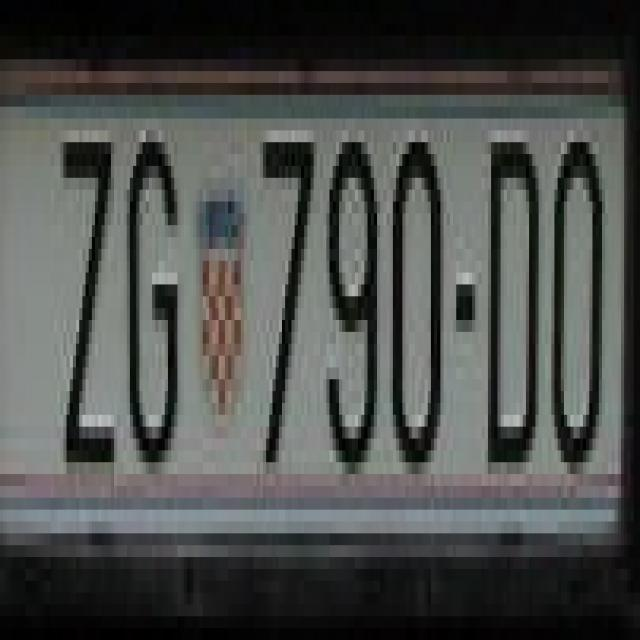0: (555, 107, 605, 486), (390, 119, 440, 474)
7: (260, 118, 310, 510)
9: (323, 119, 380, 462)
D: (484, 119, 538, 462)
G: (124, 119, 180, 462)
Z: (51, 107, 114, 474)
